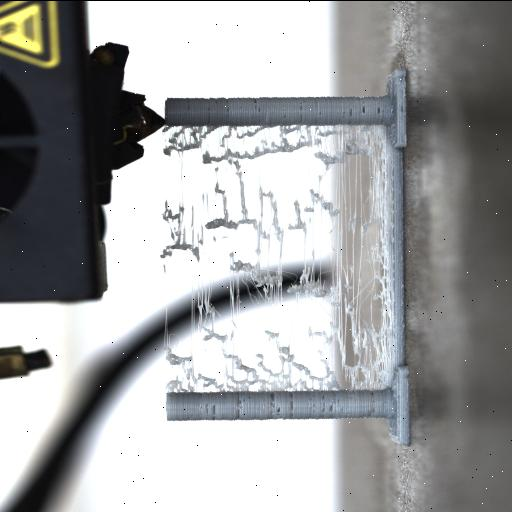stringing: (159, 123, 397, 399)
